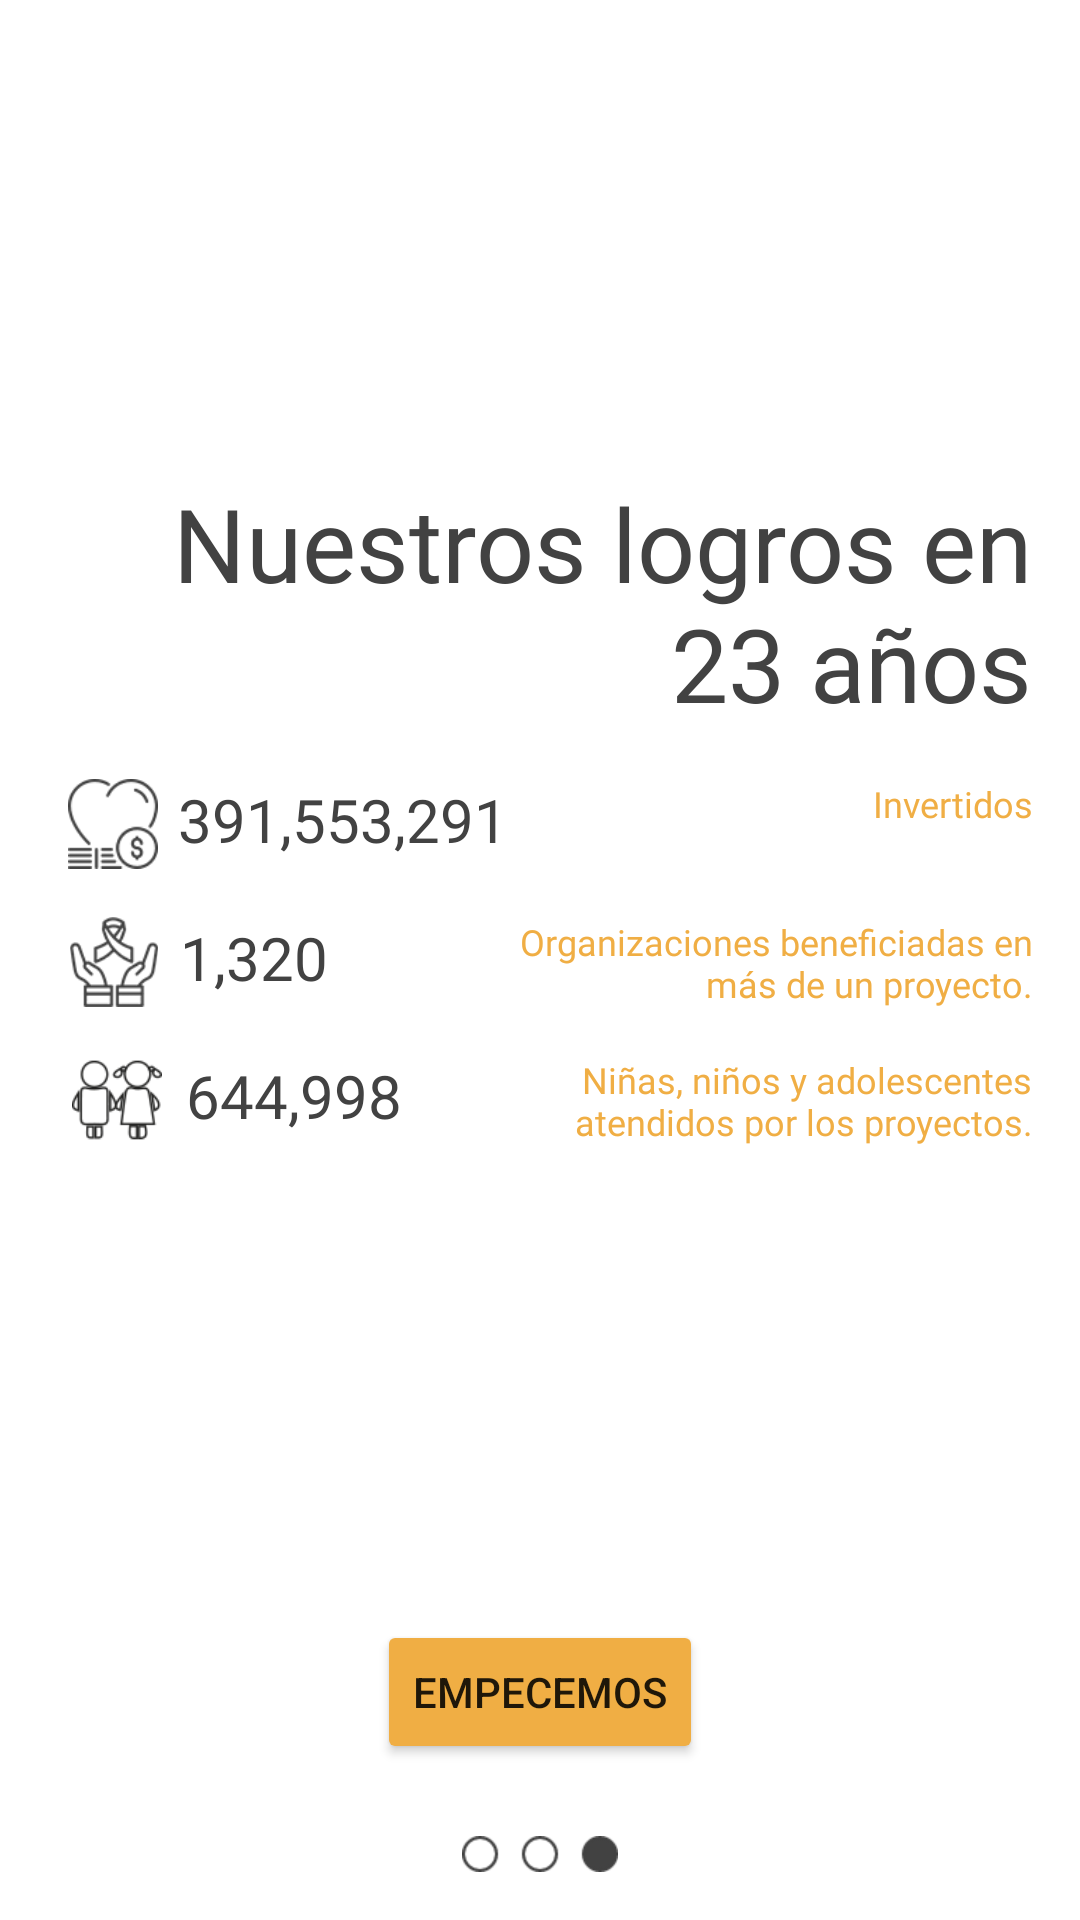

Screen size 1080 x 1920. Icon name, then its center in pixels as point (x, y):
dots: point (540, 1854)
